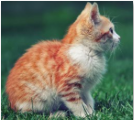cat: (69, 1, 124, 62)
